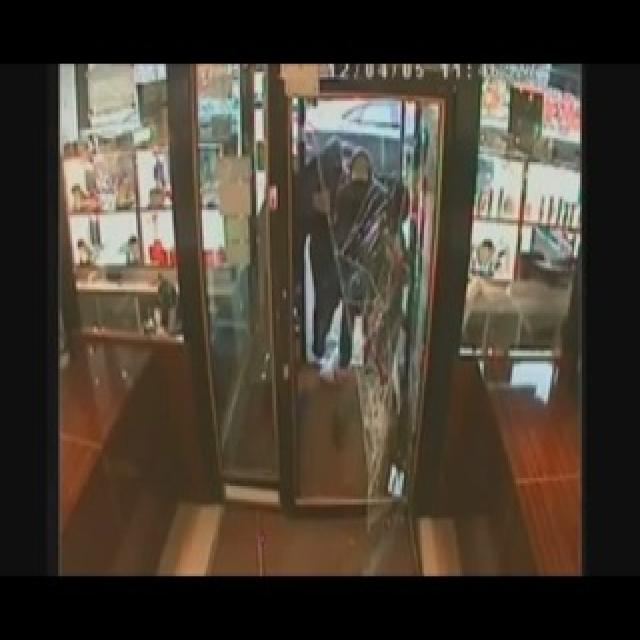thief: (301, 138, 409, 382)
